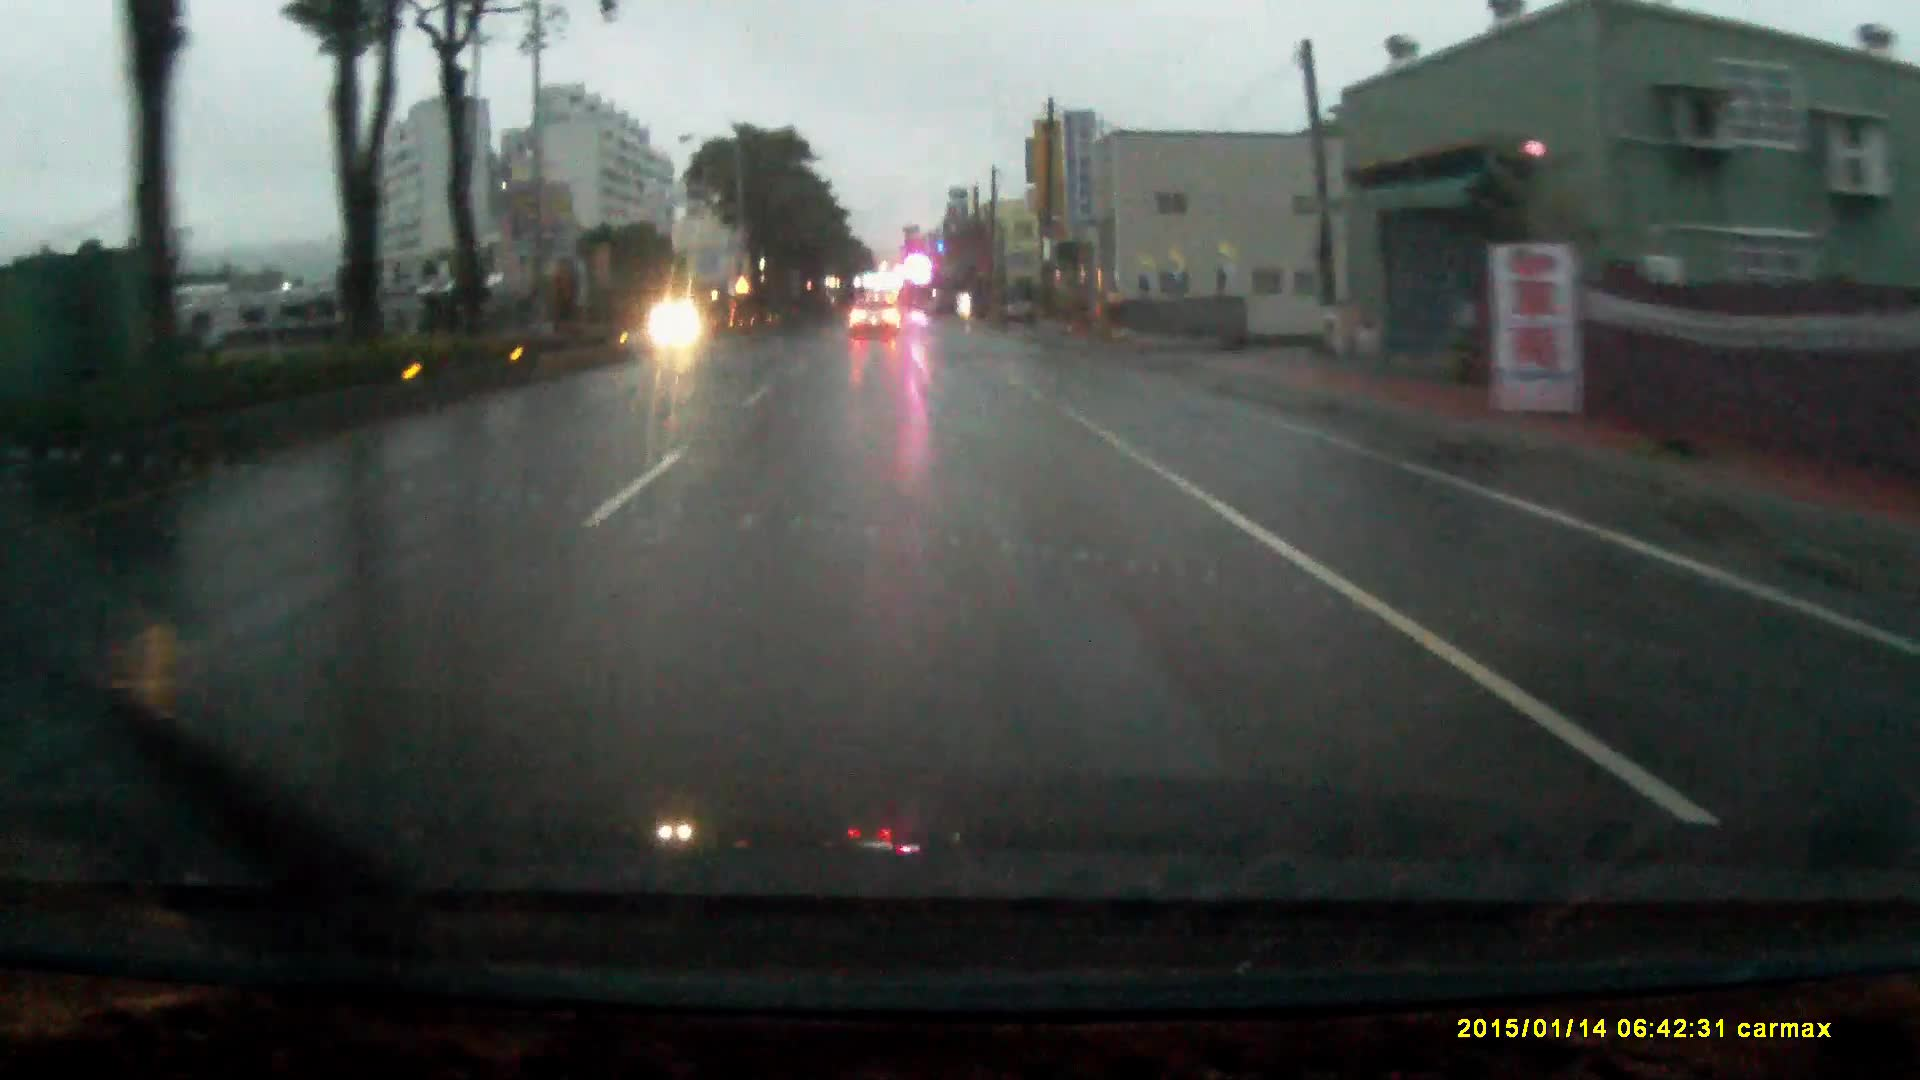vehicle: (848, 305, 902, 349), (1005, 284, 1042, 324)
